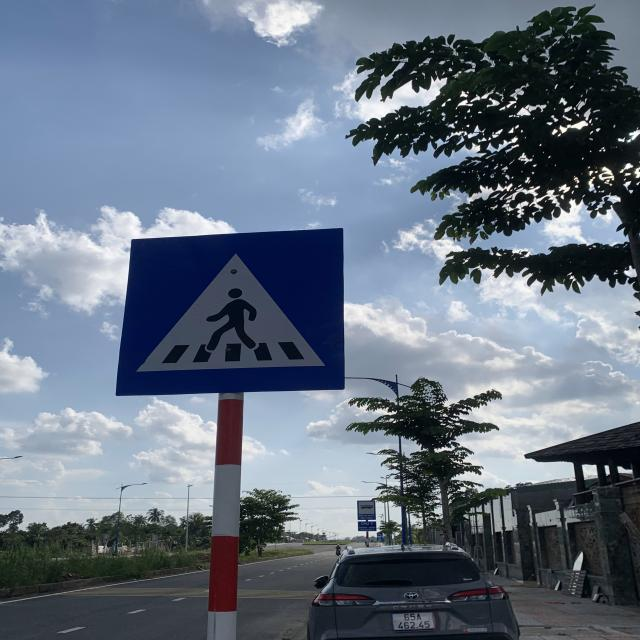Giao_Nhau_Duong_Uu_Tien: (115, 226, 347, 398)
